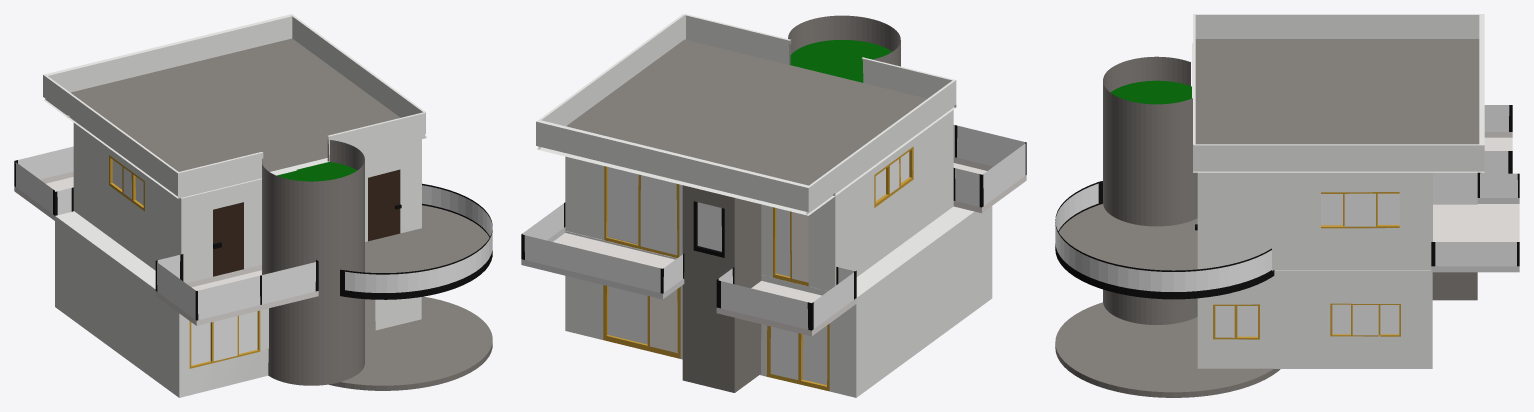
The model's file is CasaDany1.glb.
3 views of the same model, side by side, from view 1: azimuth 30°, elevation 25°; view 2: azimuth 150°, elevation 25°; view 3: azimuth 270°, elevation 25° (orthographic). The views are drawn at different scales.
Visible parts, largest first — view 1: Cube.008, Cylinder.002, Cube.002, Cube.003, Cylinder.001, Cylinder, Cube.007, Cube.001, Cube.006, Cube; view 2: Cube.008, Cube.002, Cube.003, Cube.005, Cube.001, Cube.004, Cube, Cube.006, Cylinder.002, Cube.007; view 3: Cube.008, Cube.001, Cube, Cylinder.002, Cylinder.001, Cylinder, Cube.004, Cube.005, Cube.006.
Boxes of the visible parts, x1=… form: Cube.008: x1=43, y1=14, x2=426, y2=198; Cylinder.002: x1=262, y1=139, x2=364, y2=385; Cube.002: x1=55, y1=211, x2=268, y2=397; Cube.003: x1=73, y1=123, x2=296, y2=283; Cylinder.001: x1=340, y1=183, x2=492, y2=299; Cylinder: x1=329, y1=296, x2=492, y2=390; Cube.007: x1=155, y1=254, x2=318, y2=325; Cube.001: x1=363, y1=139, x2=421, y2=241; Cube.006: x1=14, y1=146, x2=73, y2=220; Cube: x1=375, y1=297, x2=421, y2=330; Cube.008: x1=536, y1=14, x2=956, y2=215; Cube.002: x1=760, y1=206, x2=992, y2=397; Cube.003: x1=761, y1=110, x2=953, y2=290; Cube.005: x1=682, y1=185, x2=761, y2=392; Cube.001: x1=565, y1=156, x2=682, y2=258; Cube.004: x1=521, y1=202, x2=684, y2=299; Cube: x1=565, y1=231, x2=682, y2=359; Cube.006: x1=716, y1=267, x2=856, y2=336; Cylinder.002: x1=788, y1=15, x2=900, y2=82; Cube.007: x1=953, y1=125, x2=1026, y2=213; Cube.008: x1=1193, y1=14, x2=1484, y2=172; Cube.001: x1=1195, y1=172, x2=1432, y2=269; Cube: x1=1197, y1=270, x2=1432, y2=368; Cylinder.002: x1=1103, y1=56, x2=1197, y2=324; Cylinder.001: x1=1055, y1=181, x2=1274, y2=299; Cylinder: x1=1055, y1=302, x2=1280, y2=397; Cube.004: x1=1431, y1=173, x2=1519, y2=272; Cube.005: x1=1432, y1=172, x2=1477, y2=300; Cube.006: x1=1477, y1=105, x2=1512, y2=173.
Size of the model in its own units: 14.84 by 9.6 by 17.55.
